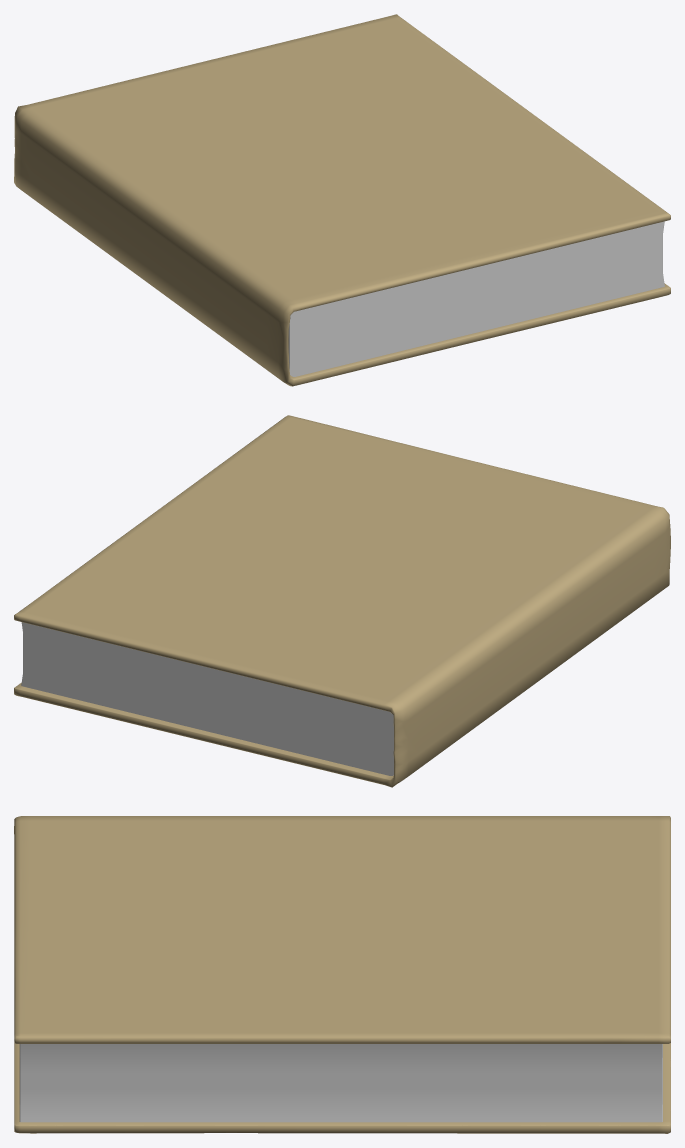
The model's file is Book.fbx.
3 renders of one model, top to bottom at view 1: azimuth 30°, elevation 25°; view 2: azimuth 150°, elevation 25°; view 3: azimuth 270°, elevation 25°, orthographic. The views are drawn at different scales.
Parts seen in each view (by area): view 1: Book001; view 2: Book001; view 3: Book001.
Part boxes in pixels (x1,y1,x2,y2): Book001: [14, 14, 670, 386]; Book001: [14, 415, 670, 787]; Book001: [14, 816, 670, 1133].
Size of the model in its own units: 223 by 275 by 44.93.
